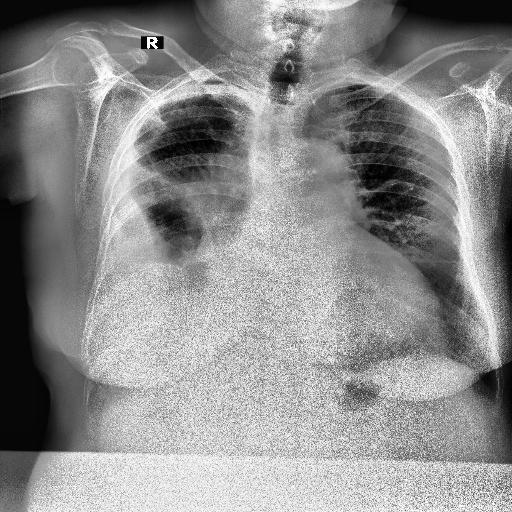0- Aortic enlargement: (278, 136, 357, 218), (276, 135, 354, 215), (274, 136, 360, 206)
10- Pleural effusion: (101, 135, 223, 360), (96, 166, 180, 328), (102, 180, 176, 346)
11- Pleural thickening: (162, 84, 256, 108)
3- Cardiomegaly: (214, 256, 444, 360), (208, 260, 440, 352)
7- Lung Opacity: (131, 156, 249, 264), (132, 152, 210, 204), (170, 71, 254, 96), (239, 176, 243, 182)
